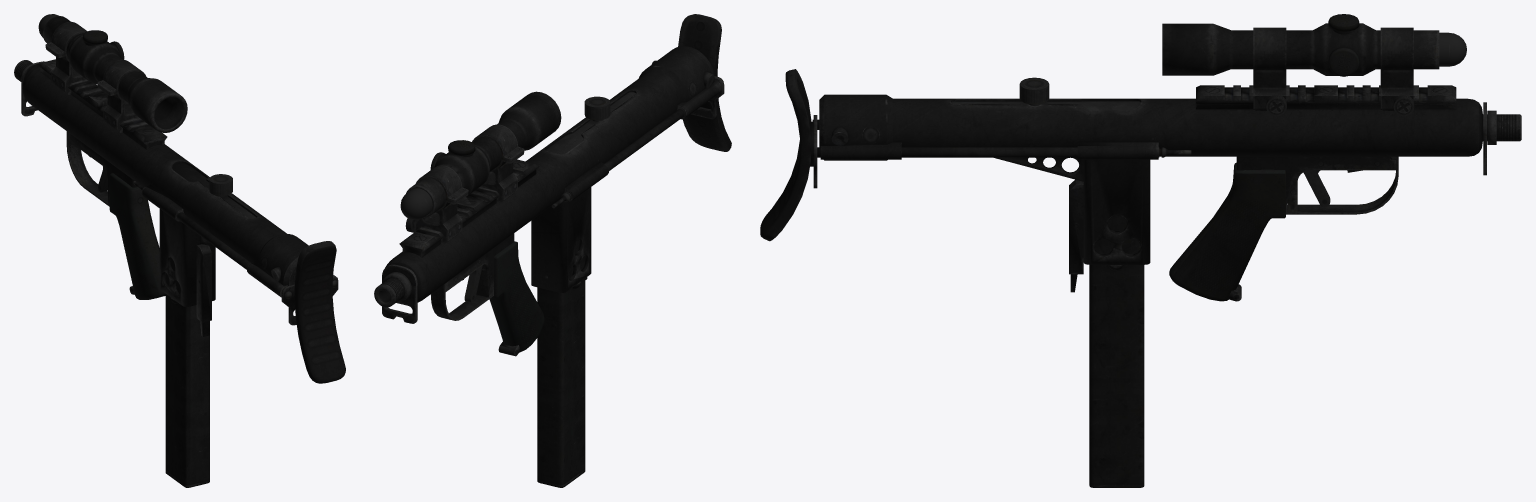
Rendered from smg.glb.
3 renders of one model, left to right at view 1: azimuth 30°, elevation 25°; view 2: azimuth 150°, elevation 25°; view 3: azimuth 270°, elevation 25°, orthographic. The views are drawn at different scales.
Visible parts, largest first — view 1: smg, Mag; view 2: smg, Mag; view 3: smg, Mag.
Part boxes in pixels (box(x1,y1,x2,y2)): smg: box(14, 14, 345, 383); Mag: box(165, 258, 209, 487); smg: box(374, 14, 731, 356); Mag: box(537, 240, 585, 487); smg: box(760, 14, 1521, 301); Mag: box(1089, 216, 1144, 487).
Size of the model in its own units: 0.0781 by 0.4943 by 0.74.
Materials: 1 (1 with a texture image).
